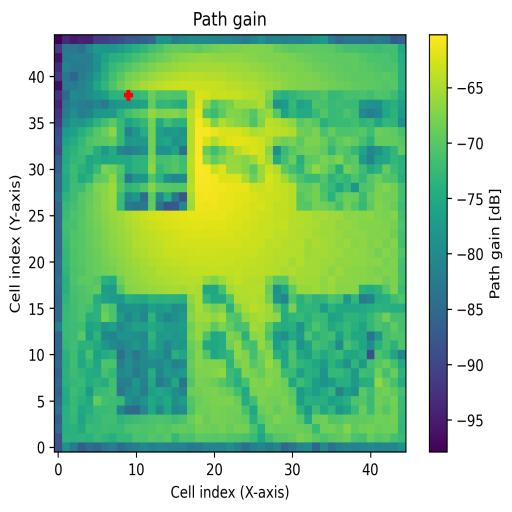Concrete: (296, 91, 375, 210)
Glass: (116, 90, 195, 210)
Metal: (288, 294, 376, 415)
Wood: (116, 293, 188, 414)
